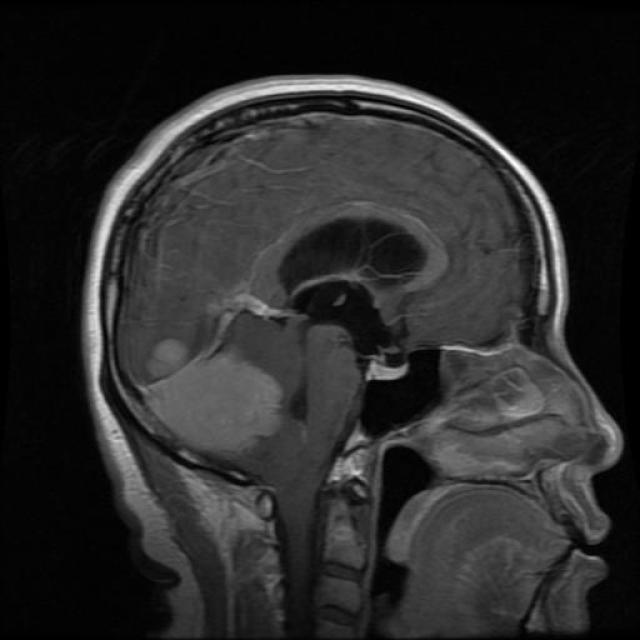meningioma: (145, 339, 281, 459)
